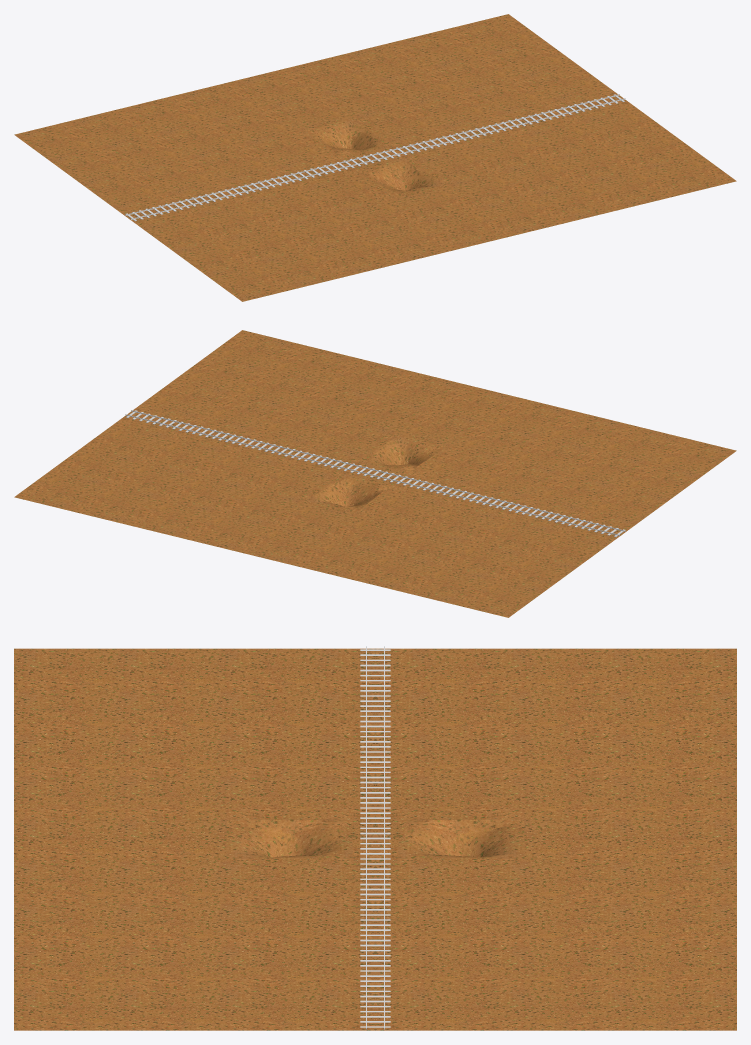
Rendered from Terrain_right_side_hole.FBX.
3 views of the same model, one above another, from view 1: azimuth 30°, elevation 25°; view 2: azimuth 150°, elevation 25°; view 3: azimuth 270°, elevation 25° (orthographic). The views are drawn at different scales.
Parts seen in each view (by area): view 1: Terrain, Rails, Rails002, Rails001; view 2: Terrain, Rails, Rails002, Rails001; view 3: Terrain.
Boxes of the visible parts, box(x1,y1,x2,y2) form: Terrain: box(14, 14, 736, 301); Rails: box(125, 174, 295, 219); Rails002: box(455, 94, 625, 139); Rails001: box(290, 134, 460, 179); Terrain: box(14, 330, 736, 617); Rails: box(455, 490, 625, 535); Rails002: box(125, 410, 295, 455); Rails001: box(290, 450, 460, 495); Terrain: box(14, 648, 736, 1030).
Bounding box in the file's own units: 150 × 7.68 × 120.
